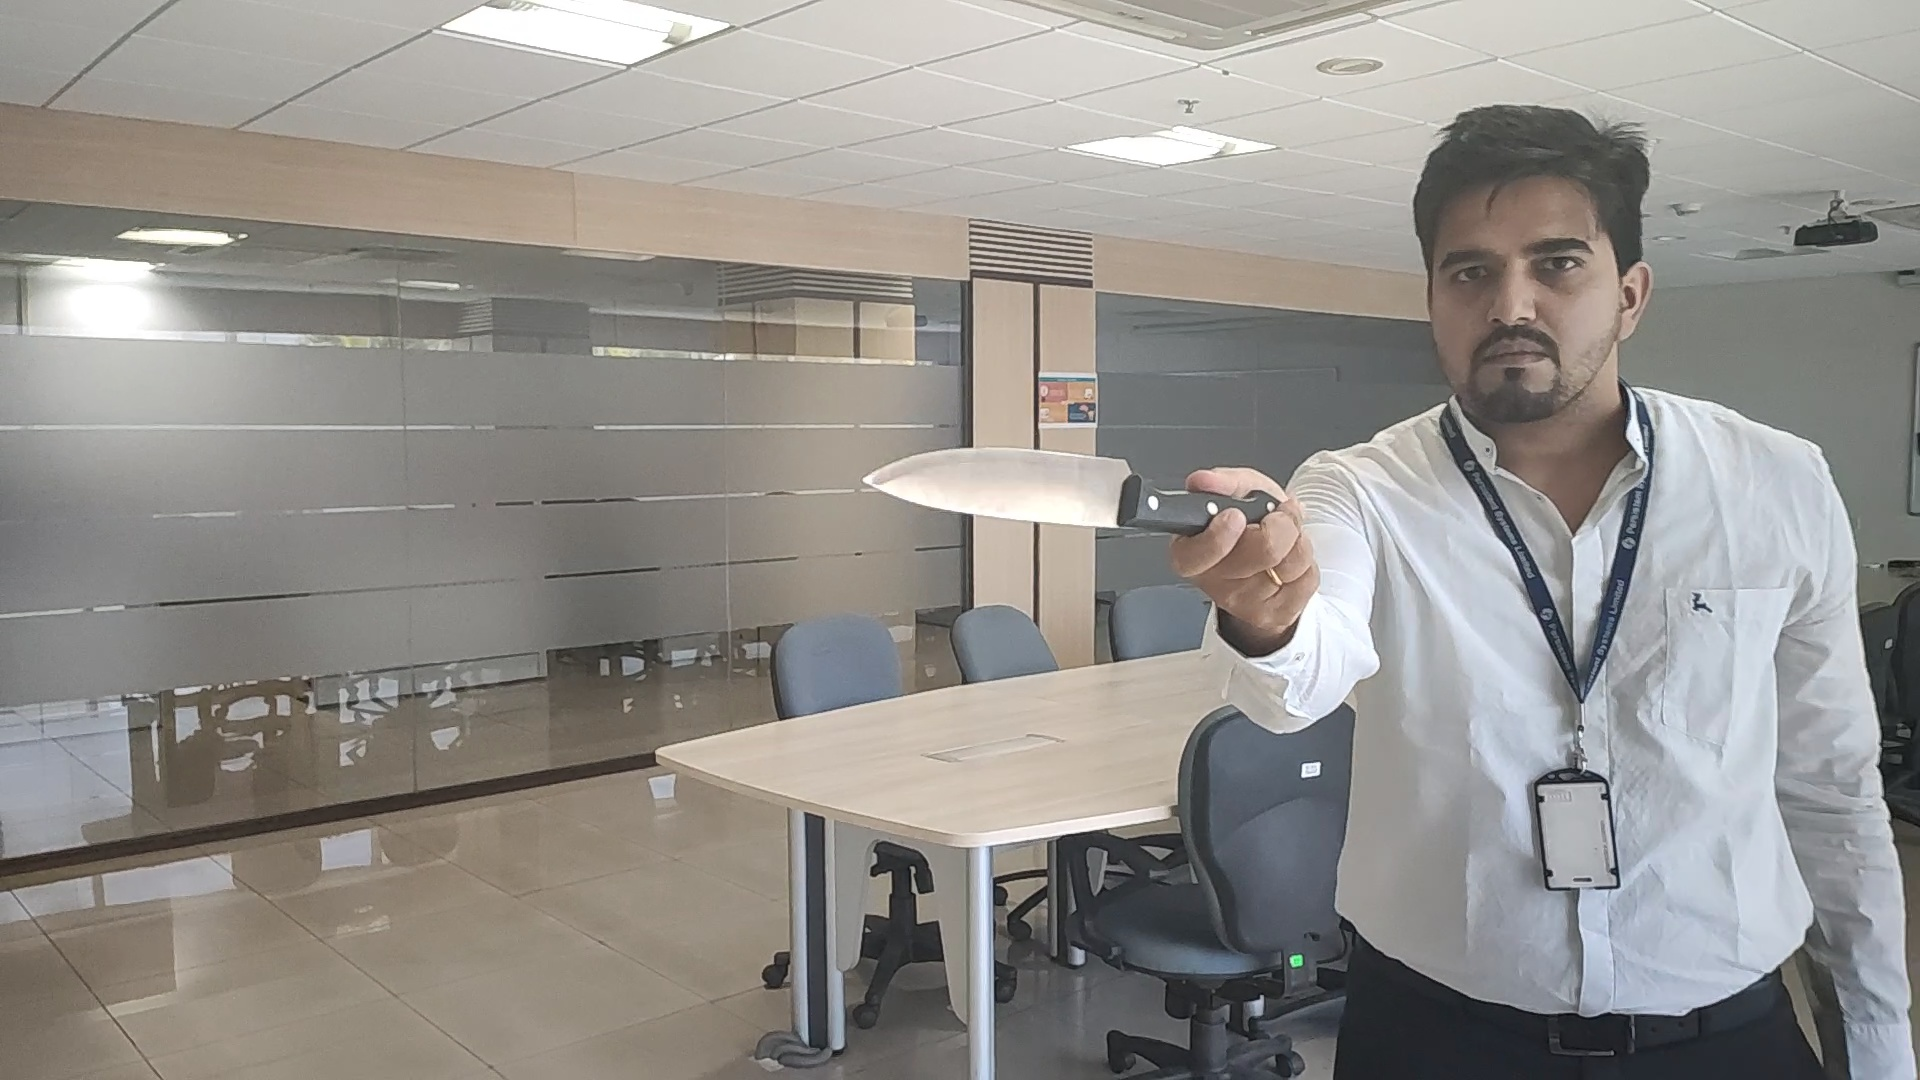knife: (861, 444, 1207, 535)
